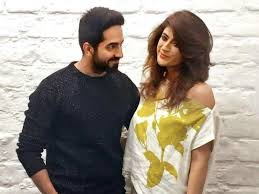Bad: (17, 7, 216, 194)
